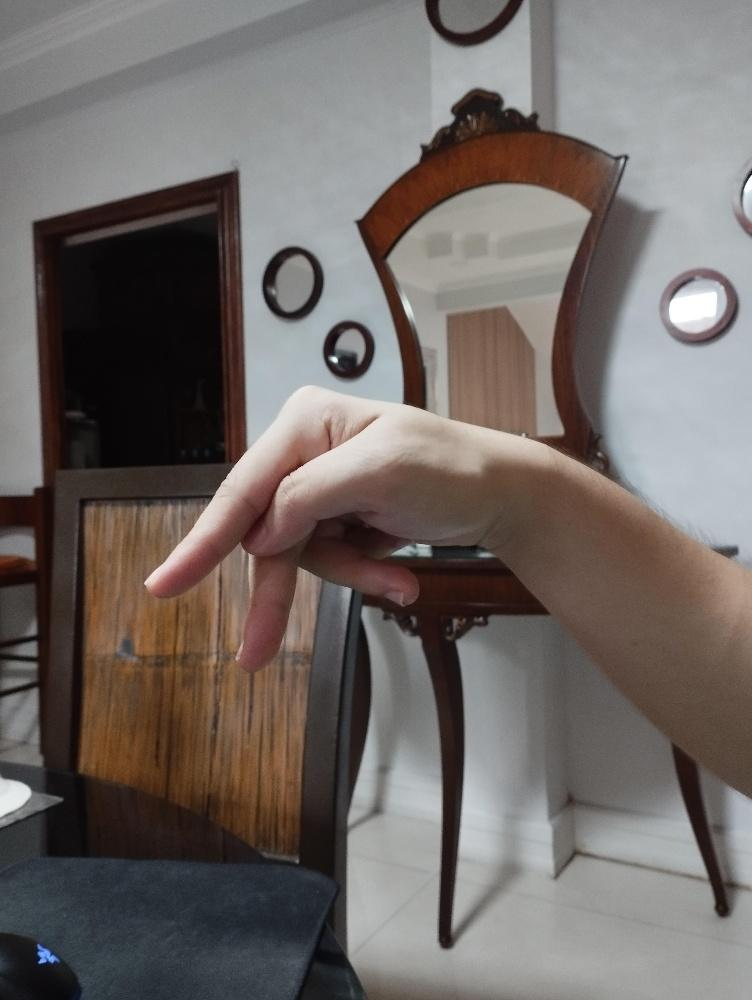p: (141, 380, 500, 675)
